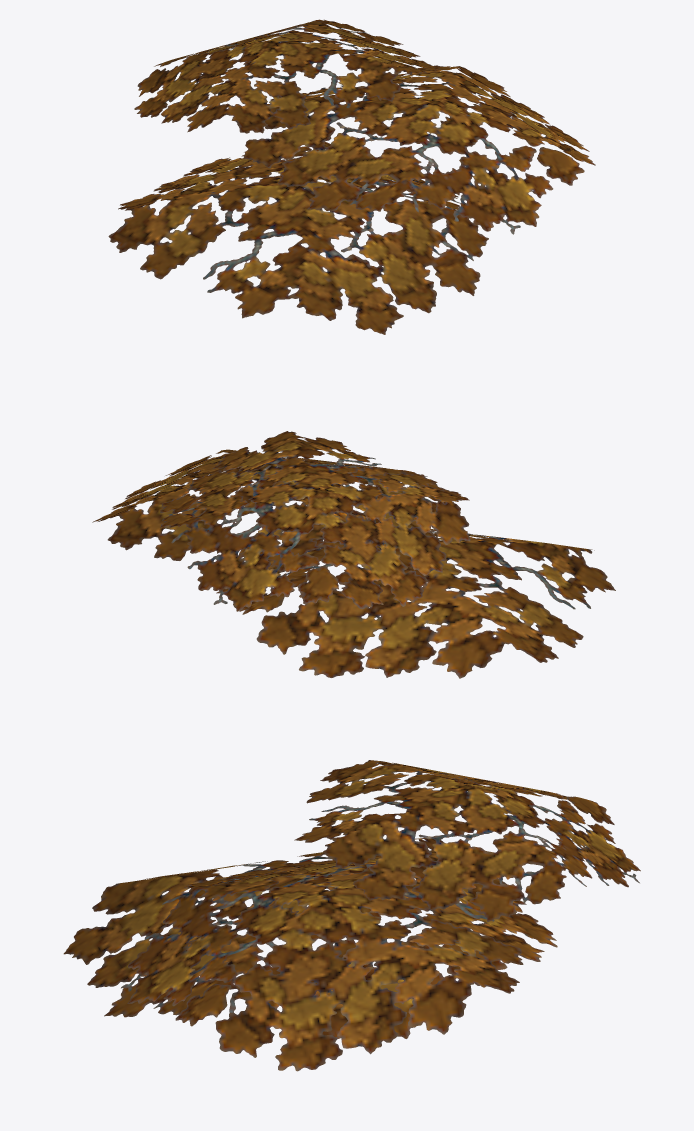
Rendered from Scene_Bush_02.FBX.
The picture shows the model from 3 angles, top to bottom: view 1: azimuth 30°, elevation 25°; view 2: azimuth 150°, elevation 25°; view 3: azimuth 270°, elevation 25°; orthographic projection. The views are drawn at different scales.
Visible parts, largest first — view 1: Scene_Bush_02; view 2: Scene_Bush_02; view 3: Scene_Bush_02.
Boxes of the visible parts, box(x1,y1,x2,y2) form: Scene_Bush_02: box(108, 19, 595, 334); Scene_Bush_02: box(92, 431, 615, 678); Scene_Bush_02: box(63, 760, 640, 1071).
Bounding box in the file's own units: 4 × 1.23 × 3.64.
